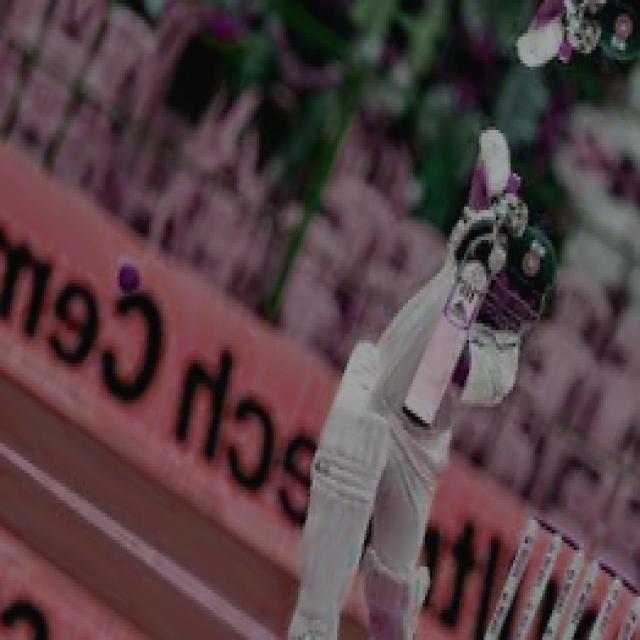bat: (408, 247, 485, 432)
